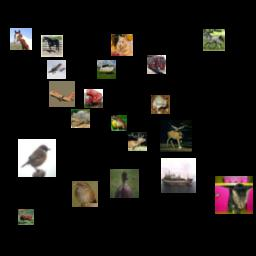airplane: (49, 81, 75, 107), (47, 60, 66, 79)
bird: (18, 139, 56, 177), (110, 169, 139, 198), (72, 181, 98, 207)
cat: (215, 176, 253, 214), (111, 34, 133, 56)
deer: (160, 120, 192, 152), (128, 132, 147, 151), (18, 209, 34, 225)
frog: (151, 95, 170, 114), (71, 109, 90, 128), (111, 115, 127, 131)
ship: (161, 158, 196, 193), (97, 60, 116, 79)
truck: (147, 55, 166, 74), (84, 89, 103, 108)
